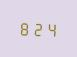eight: (18, 19, 30, 36)
four: (45, 20, 57, 37)
two: (32, 19, 44, 37)
